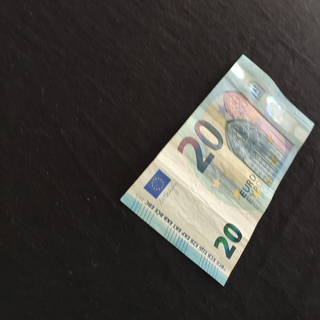20EUROFront: (119, 52, 314, 286)
